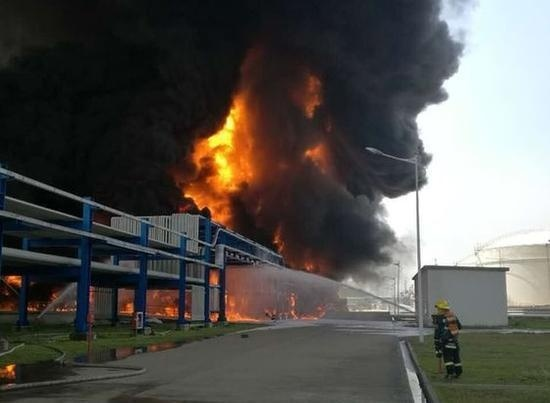fire: (187, 99, 251, 217), (150, 293, 190, 320)
